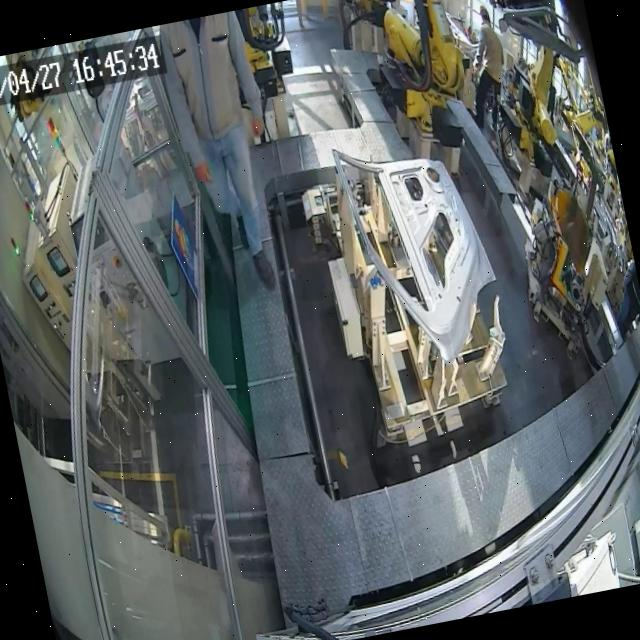Person: (154, 8, 298, 302), (452, 3, 518, 132)
